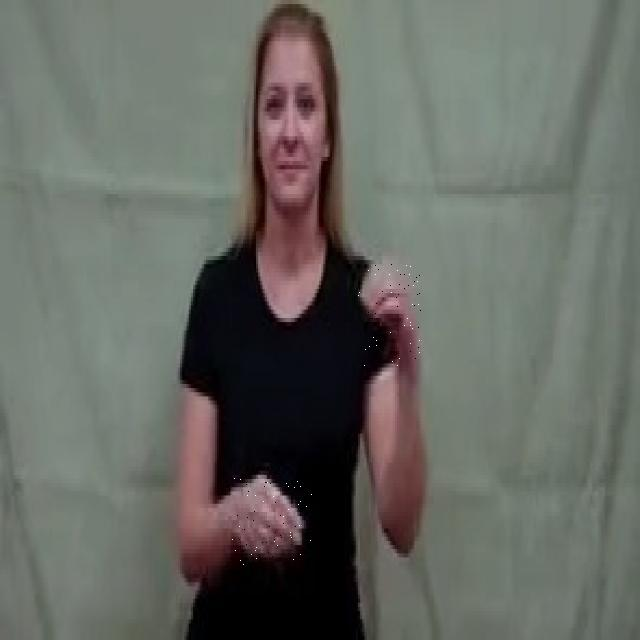ingredients: (232, 474, 314, 567), (358, 262, 421, 366)
